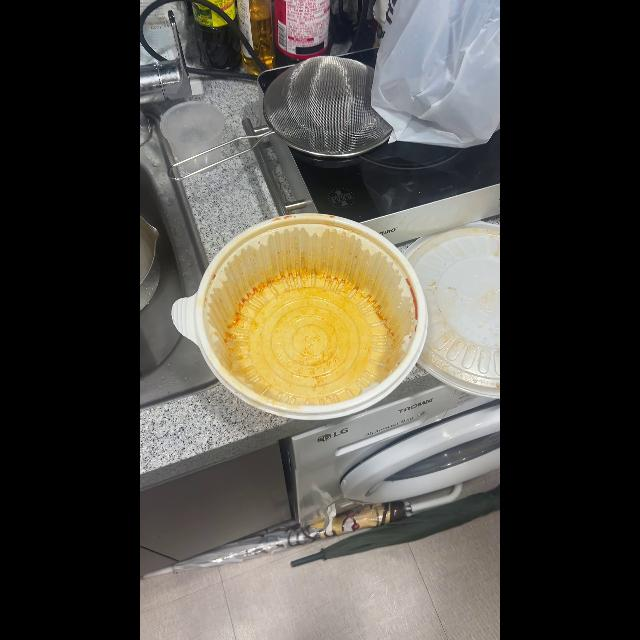dirty: (201, 227, 419, 399)
